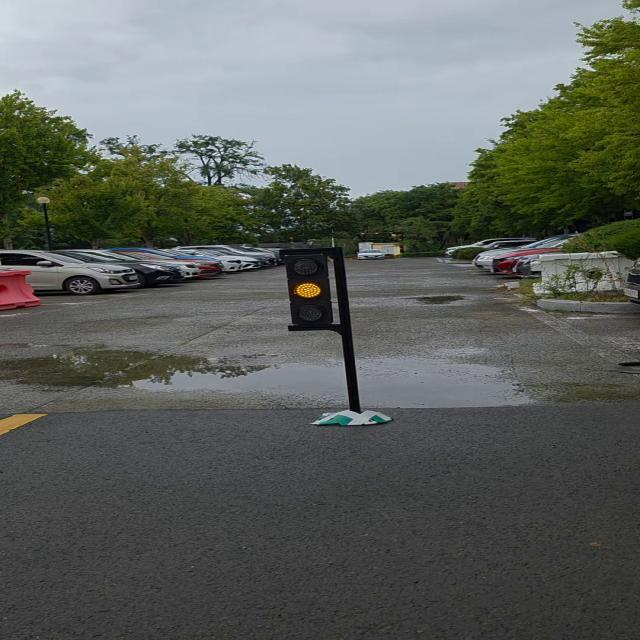yellow: (277, 247, 344, 331)
